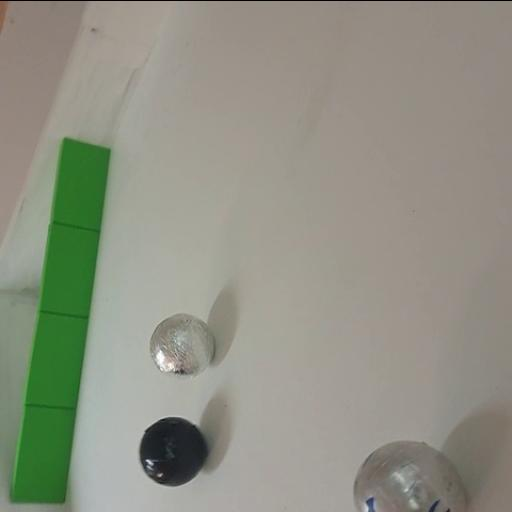alive: (352, 439, 466, 512), (148, 312, 214, 380)
dead: (136, 414, 208, 488)
